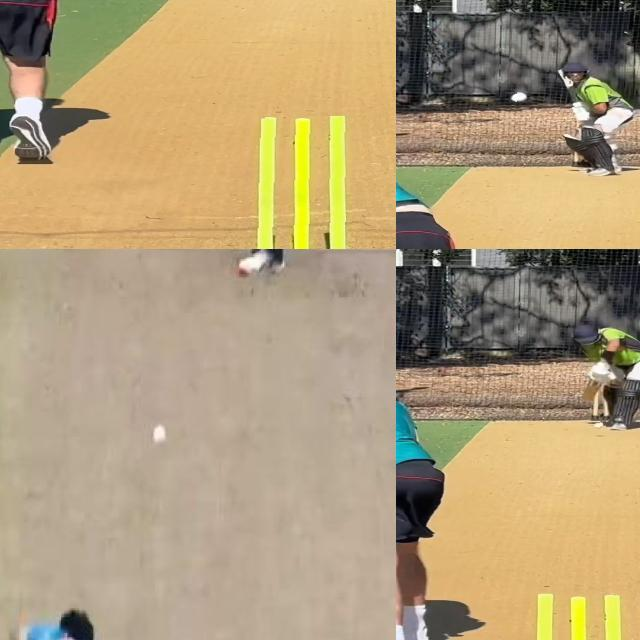Cricket ball: (150, 421, 170, 450), (509, 92, 530, 105), (592, 421, 606, 430)
Stumps: (242, 116, 368, 249), (527, 591, 634, 640)
